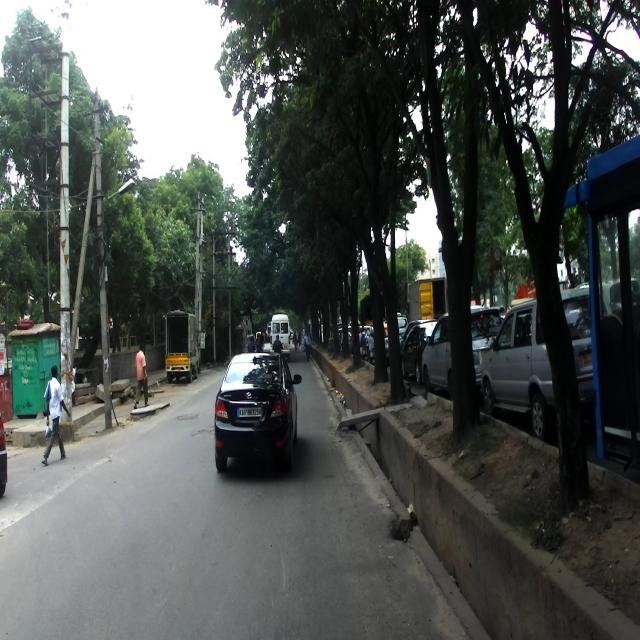car: (213, 349, 302, 474)
